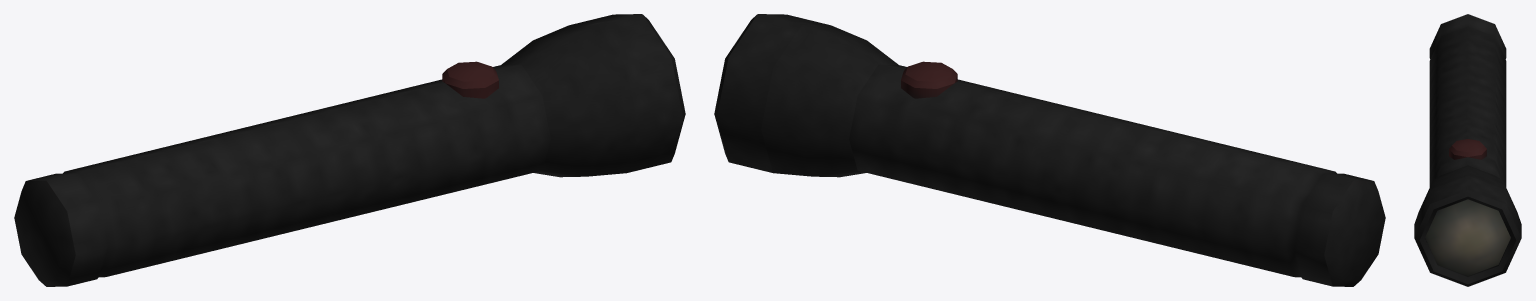
File: flashlight_2.obj
3 renders of one model, left to right at view 1: azimuth 30°, elevation 25°; view 2: azimuth 150°, elevation 25°; view 3: azimuth 270°, elevation 25°, orthographic. The views are drawn at different scales.
Visible parts, largest first — view 1: flashlight_2; view 2: flashlight_2; view 3: flashlight_2.
Part boxes in pixels (x1,y1,x2,y2): flashlight_2: (14, 14, 685, 286); flashlight_2: (714, 14, 1385, 286); flashlight_2: (1414, 14, 1521, 286).
Bounding box in the file's own units: 0.3133 × 0.0728 × 0.0728.
